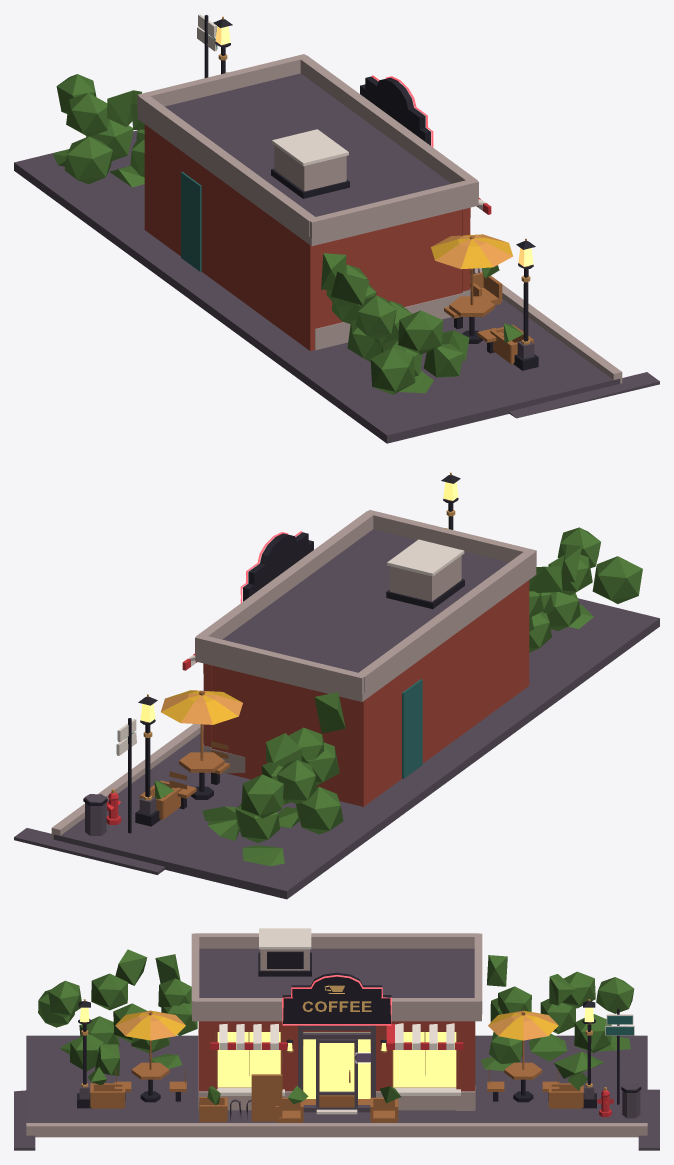
3 renders of one model, top to bottom at view 1: azimuth 30°, elevation 25°; view 2: azimuth 150°, elevation 25°; view 3: azimuth 270°, elevation 25°, orthographic. The views are drawn at different scales.
Parts seen in each view (by area): view 1: body_pal_asphalt, body_pal_brick, roof_pal_sidewalk, body_pal_foliageDark, roof_pal_asphalt, body_pal_sidewalk, roof_pal_uiDark, body_pal_woodWarm, body_pal_uiDark, body_pal_backpackTeal, roof_pal_picketWhite, body_pal_orange (+1 smaller); view 2: body_pal_asphalt, body_pal_brick, roof_pal_sidewalk, body_pal_foliageDark, roof_pal_asphalt, roof_pal_uiDark, body_pal_uiDark, body_pal_sidewalk, body_pal_woodWarm, body_pal_backpackTeal, roof_pal_picketWhite, body_pal_schoolBusYellow (+1 smaller); view 3: body_pal_asphalt, body_pal_foliageDark, body_pal_sidewalk, roof_pal_asphalt, roof_pal_sidewalk, body_pal_woodWarm, body_pal_brick, roof_pal_uiDark, body_pal_picketWhite, window_right_emi_windowGlow, window_left_emi_windowGlow, body_pal_uiDark (+13 smaller).
Part boxes in pixels (<box>): body_pal_asphalt: <box>14,130,659,443</box>; body_pal_brick: <box>144,124,470,350</box>; roof_pal_sidewalk: <box>137,54,478,246</box>; body_pal_foliageDark: <box>53,74,523,394</box>; roof_pal_asphalt: <box>165,73,451,216</box>; body_pal_sidewalk: <box>315,268,622,383</box>; roof_pal_uiDark: <box>271,76,430,198</box>; body_pal_woodWarm: <box>444,235,533,364</box>; body_pal_uiDark: <box>204,15,538,370</box>; body_pal_backpackTeal: <box>181,26,217,271</box>; roof_pal_picketWhite: <box>272,129,348,166</box>; body_pal_orange: <box>226,72,512,268</box>; body_pal_asphalt: <box>14,598,659,899</box>; body_pal_brick: <box>203,580,529,806</box>; roof_pal_sidewalk: <box>195,510,536,701</box>; body_pal_foliageDark: <box>154,527,642,866</box>; roof_pal_asphalt: <box>223,529,508,672</box>; roof_pal_uiDark: <box>243,532,464,609</box>; body_pal_uiDark: <box>83,475,460,833</box>; body_pal_sidewalk: <box>51,724,245,839</box>; body_pal_woodWarm: <box>140,690,229,819</box>; body_pal_backpackTeal: <box>116,679,422,778</box>; roof_pal_picketWhite: <box>387,539,464,576</box>; body_pal_schoolBusYellow: <box>161,528,447,724</box>; body_pal_asphalt: <box>14,1025,659,1150</box>; body_pal_foliageDark: <box>38,949,634,1105</box>; body_pal_sidewalk: <box>26,1029,647,1137</box>; roof_pal_asphalt: <box>199,948,474,997</box>; roof_pal_sidewalk: <box>191,933,482,1021</box>; body_pal_woodWarm: <box>90,1011,583,1122</box>; body_pal_brick: <box>198,1021,475,1091</box>; roof_pal_uiDark: <box>258,951,391,1023</box>; body_pal_picketWhite: <box>216,1014,634,1114</box>; window_right_emi_windowGlow: <box>393,1032,456,1087</box>; window_left_emi_windowGlow: <box>217,1032,280,1087</box>; body_pal_uiDark: <box>77,1001,641,1108</box>.
Size of the model in its own units: 7.41 by 4.76 by 18.72.
